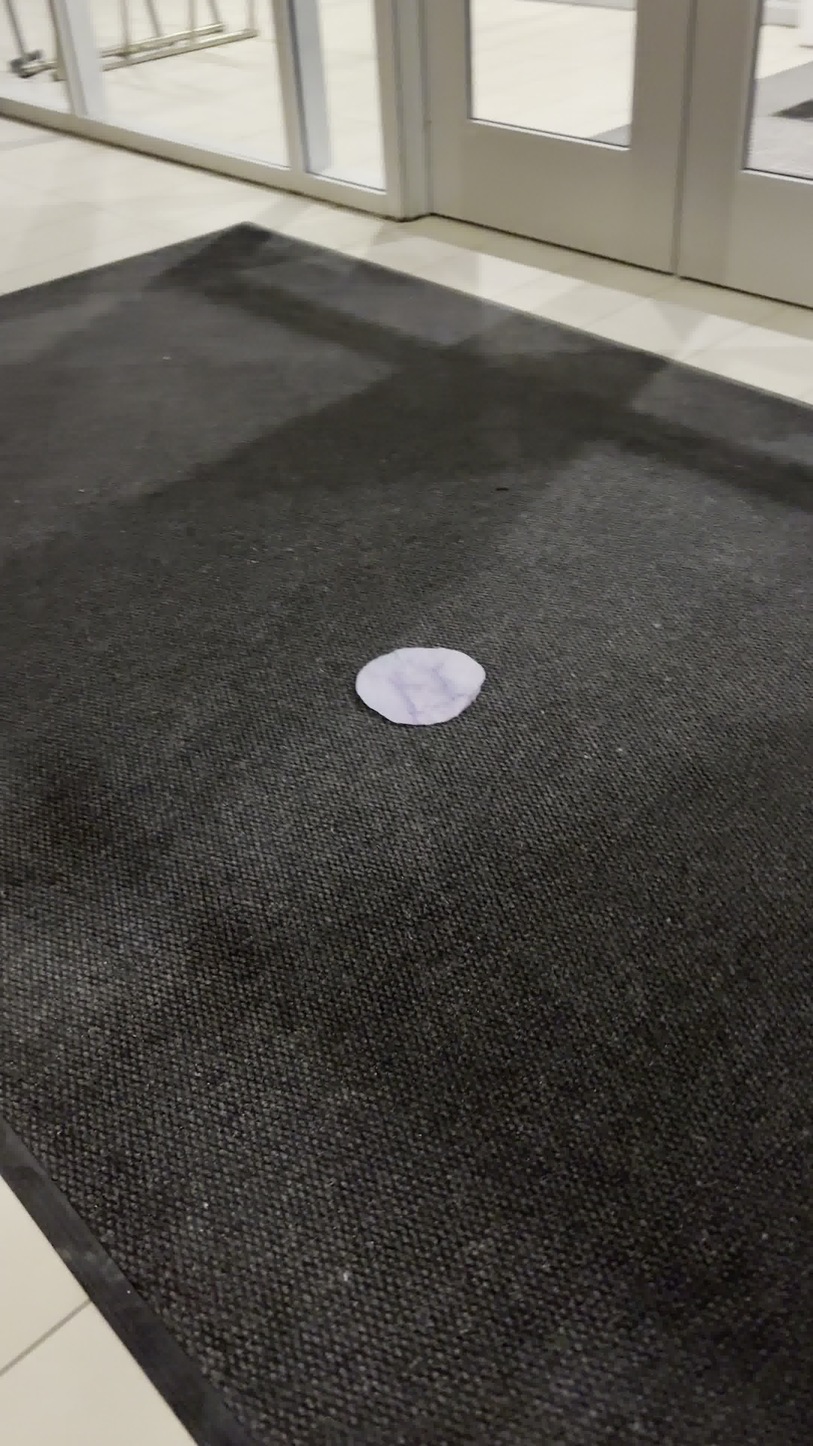Target: (356, 647, 486, 725)
